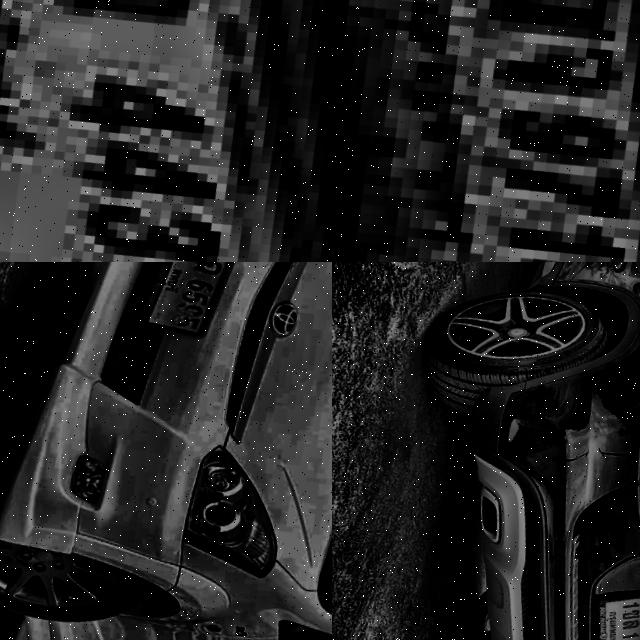license-plate: (0, 0, 332, 262), (332, 0, 640, 262), (125, 262, 246, 359), (575, 588, 640, 640)
